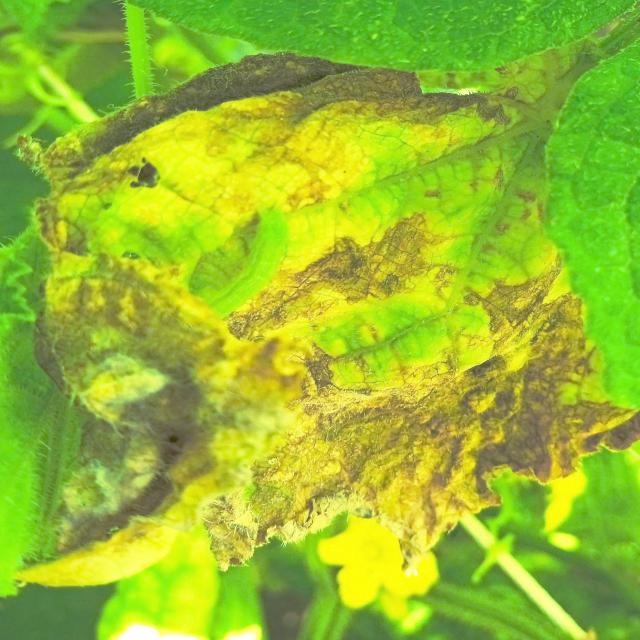Gummy-Stem-Blight: (16, 54, 640, 575)
